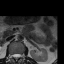CCS_normal: (15, 51, 17, 63)
LFS_normal: (20, 52, 22, 59)
LLS_normal: (17, 52, 19, 60)
RFS_normal: (10, 52, 13, 59)
RLS_normal: (13, 52, 15, 59)
